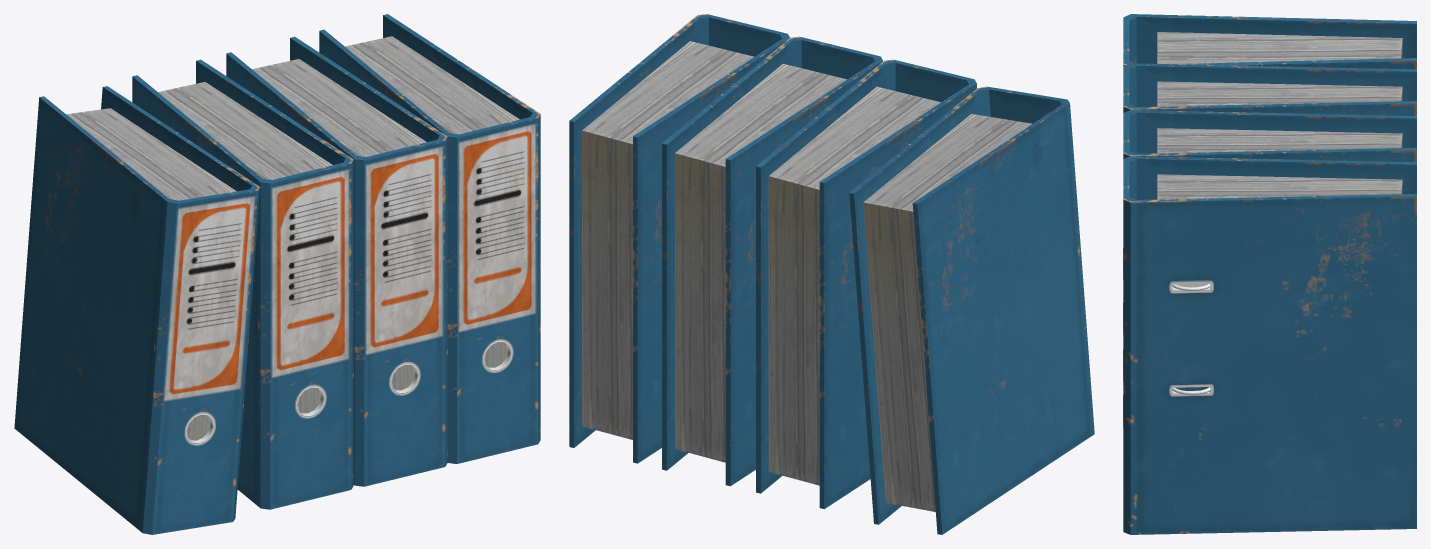
The model's file is SM_Folders_Row_01.fbx.
3 renders of one model, left to right at view 1: azimuth 30°, elevation 25°; view 2: azimuth 150°, elevation 25°; view 3: azimuth 270°, elevation 25°, orthographic.
Visible parts, largest first — view 1: SM_Folders_Row_01; view 2: SM_Folders_Row_01; view 3: SM_Folders_Row_01.
Boxes of the visible parts, left/top/right/bottom form: SM_Folders_Row_01: left=14, top=14, right=540, bottom=534; SM_Folders_Row_01: left=569, top=14, right=1094, bottom=534; SM_Folders_Row_01: left=1123, top=14, right=1416, bottom=534.
Bounding box in the file's own units: 57.92 × 36.03 × 45.92.
Materials: 3 (3 with a texture image).
